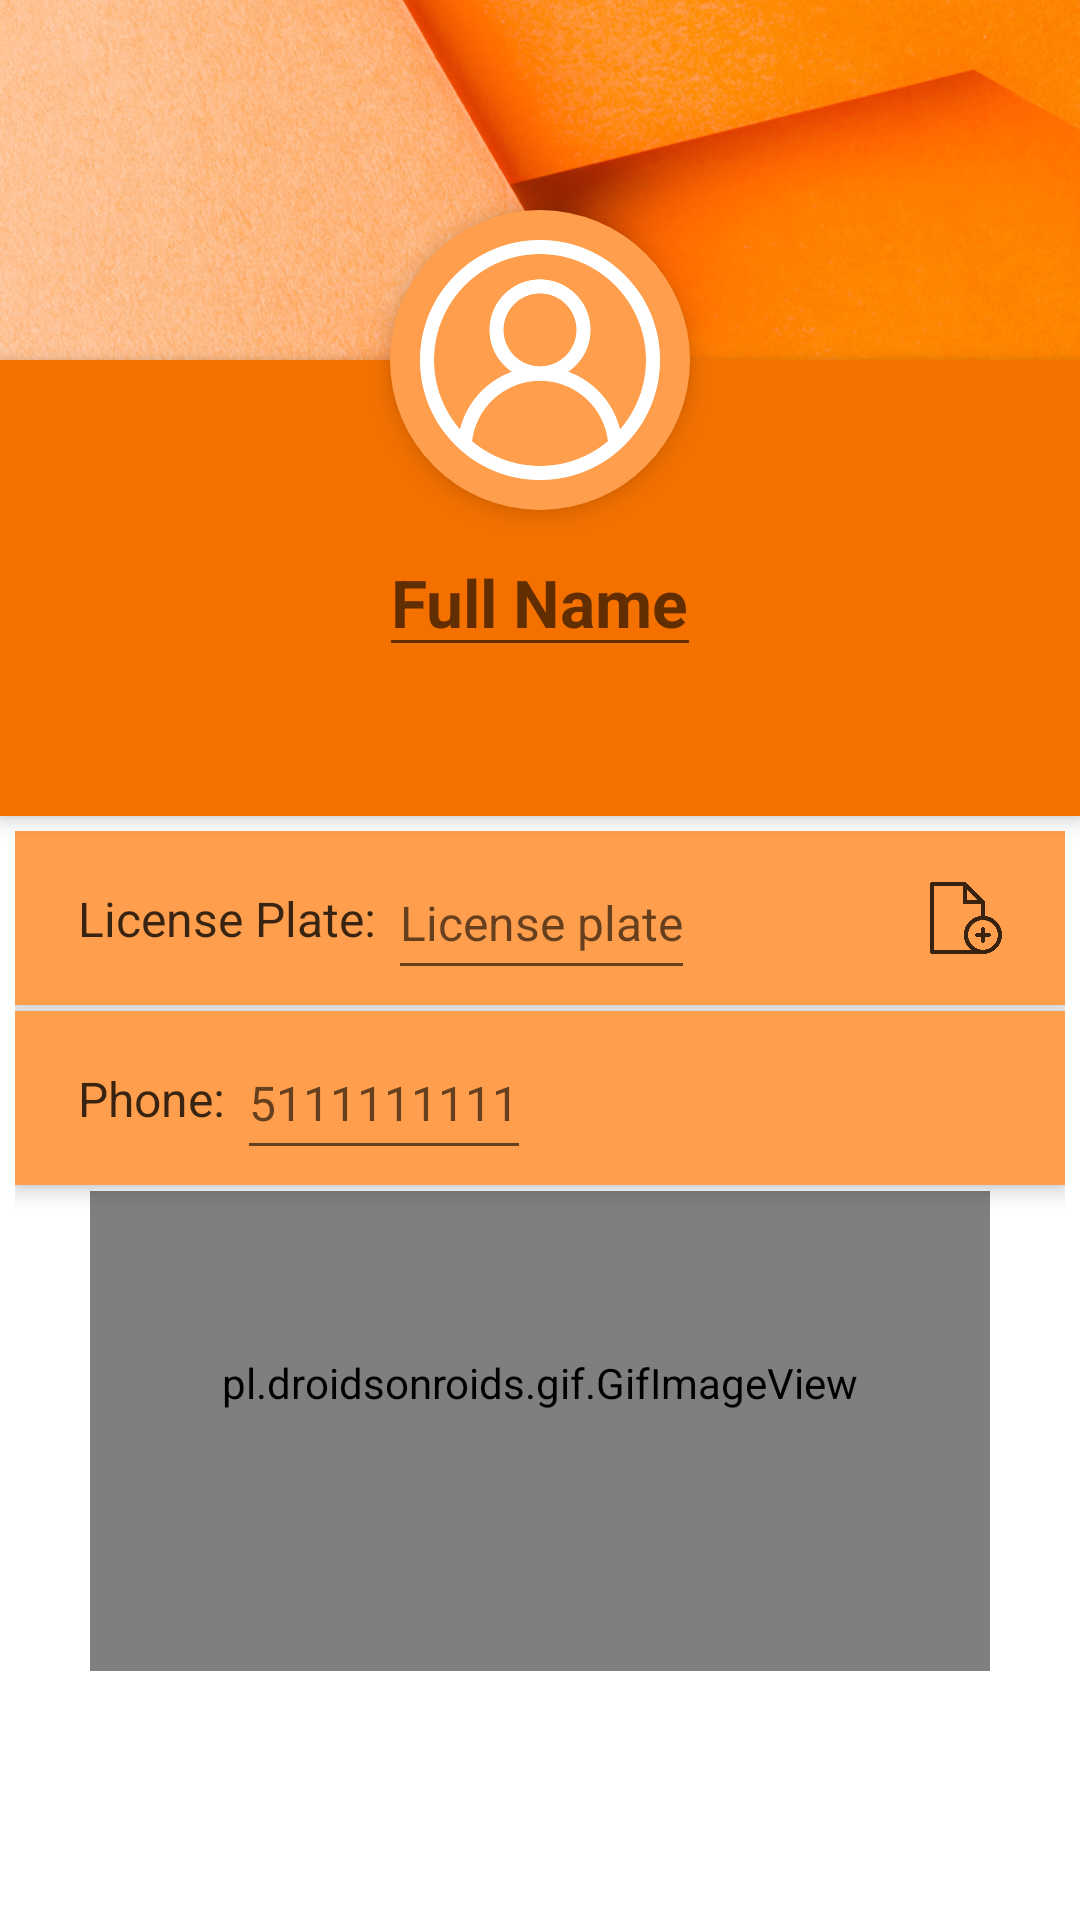

Locate icon controls on the screen. Image size 1080 × 1920, boxes as (x1, y1, x2, y2).
file: (930, 882, 1002, 954)
profile: (390, 210, 690, 510)
